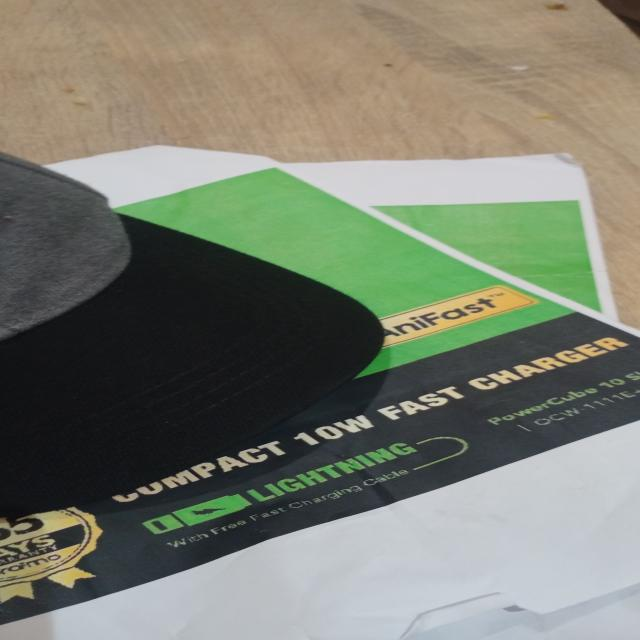PowerCube 10 Sleek OCW-1111ExL53: (465, 365, 640, 441)
